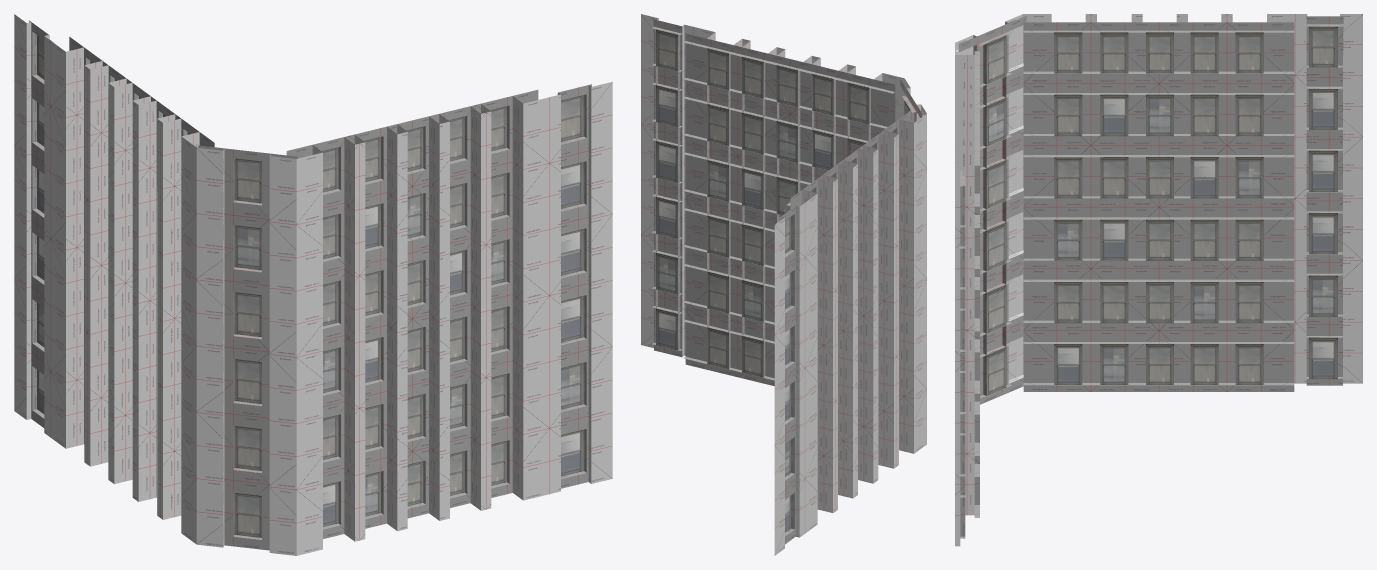
Rendered from M_04_3x_f_semi.FBX.
3 renders of one model, left to right at view 1: azimuth 30°, elevation 25°; view 2: azimuth 150°, elevation 25°; view 3: azimuth 270°, elevation 25°, orthographic. The views are drawn at different scales.
Visible parts, largest first — view 1: B_03_3x_f, Object001, Object002; view 2: B_03_3x_f, Object001; view 3: B_03_3x_f, Object001, Object002.
Boxes of the visible parts, bbox=[...] form: B_03_3x_f: bbox=[14, 14, 612, 555]; Object001: bbox=[196, 145, 297, 555]; Object002: bbox=[234, 158, 261, 537]; B_03_3x_f: bbox=[641, 14, 926, 555]; Object001: bbox=[900, 79, 926, 122]; B_03_3x_f: bbox=[955, 14, 1362, 546]; Object001: bbox=[955, 14, 1026, 404]; Object002: bbox=[986, 35, 1005, 395].
Bounding box in the file's own units: 60 × 60 × 60.
